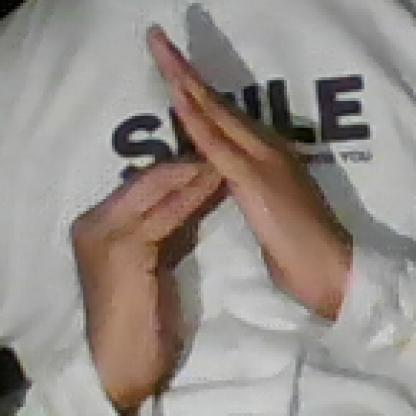Z: (62, 18, 318, 368)
